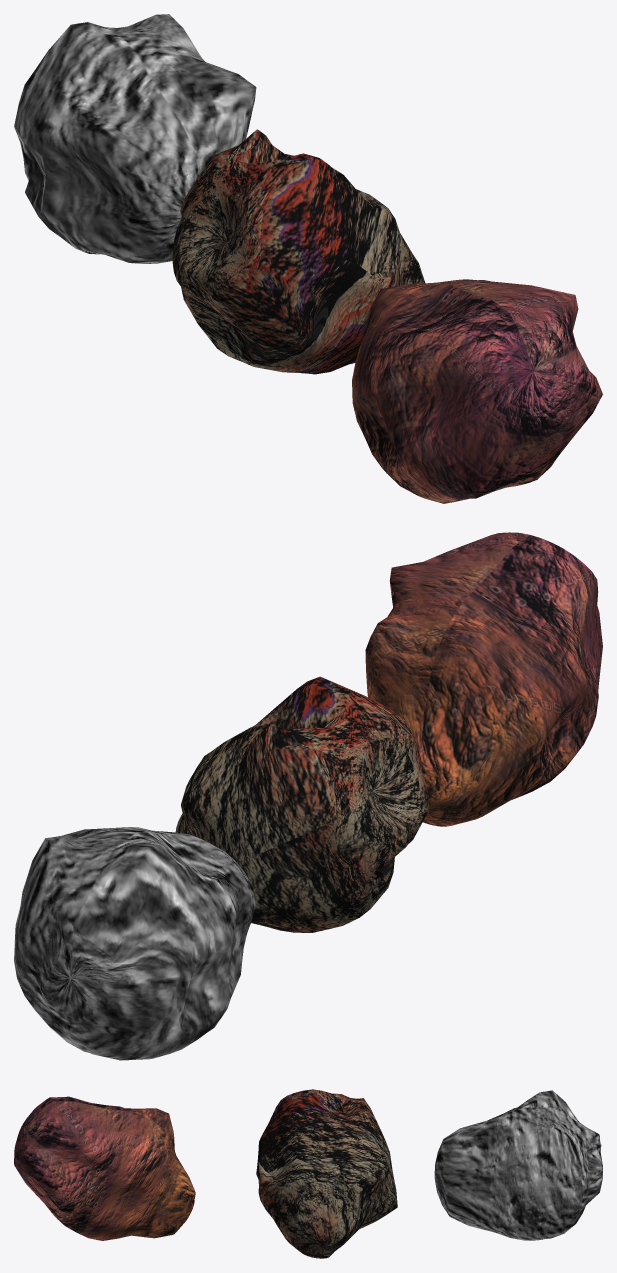
Rendered from metior 1.FBX.
3 renders of one model, top to bottom at view 1: azimuth 30°, elevation 25°; view 2: azimuth 150°, elevation 25°; view 3: azimuth 270°, elevation 25°, orthographic. The views are drawn at different scales.
Parts seen in each view (by area): view 1: Sphere001, Sphere003, Sphere002; view 2: Sphere001, Sphere003, Sphere002; view 3: Sphere001, Sphere003, Sphere002.
Boxes of the visible parts, x1,y1,x2,y2 form: Sphere001: (352, 279, 602, 503); Sphere003: (14, 14, 256, 263); Sphere002: (172, 129, 425, 374); Sphere001: (365, 532, 602, 826); Sphere003: (14, 827, 255, 1060); Sphere002: (175, 676, 429, 932); Sphere001: (14, 1096, 195, 1240); Sphere003: (434, 1090, 602, 1240); Sphere002: (256, 1089, 397, 1258).
Size of the model in its own units: 93.98 by 89.42 by 345.
3 materials, 3 textured.
